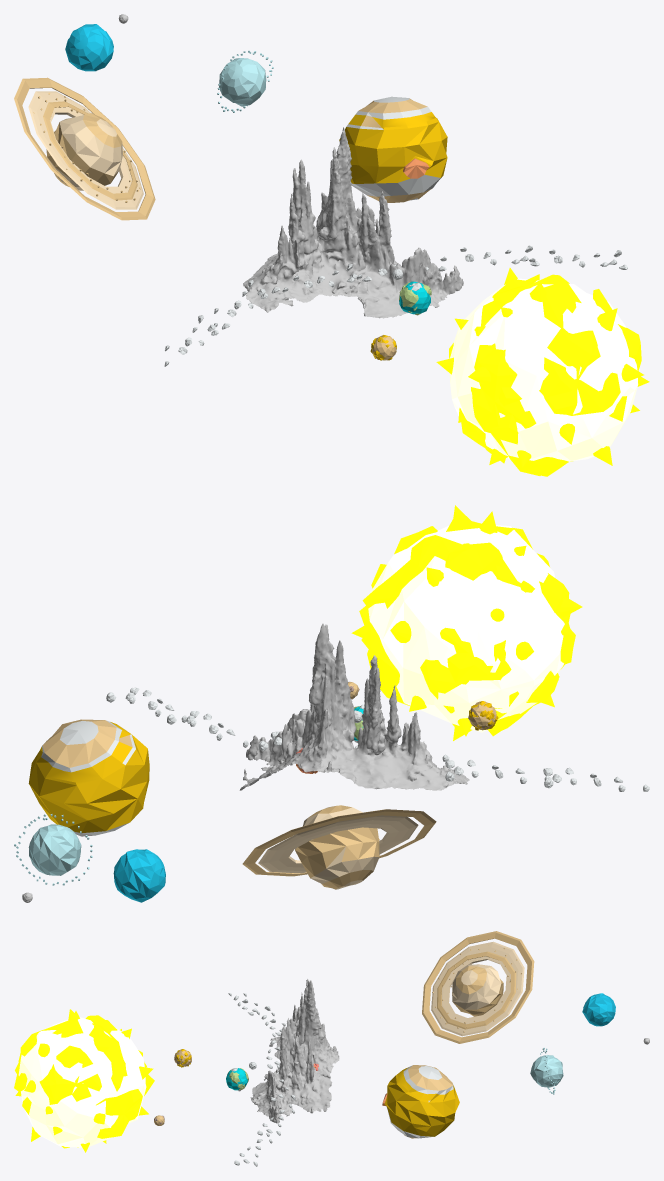
The model's file is spacevent5_newlight.gltf.
The picture shows the model from 3 angles, top to bottom: view 1: azimuth 30°, elevation 25°; view 2: azimuth 150°, elevation 25°; view 3: azimuth 270°, elevation 25°; orthographic projection. The views are drawn at different scales.
Visible parts, largest first — view 1: model, vent_top1; view 2: model, vent_top1; view 3: model, vent_top1.
Boxes of the visible parts, left/top/right/bottom form: model: left=14, top=14, right=649, bottom=476; vent_top1: left=243, top=127, right=463, bottom=318; model: left=14, top=505, right=649, bottom=902; vent_top1: left=239, top=623, right=469, bottom=790; model: left=14, top=931, right=649, bottom=1166; vent_top1: left=250, top=979, right=339, bottom=1123.
Bounding box in the file's own units: 51.86 × 23.4 × 87.52.
